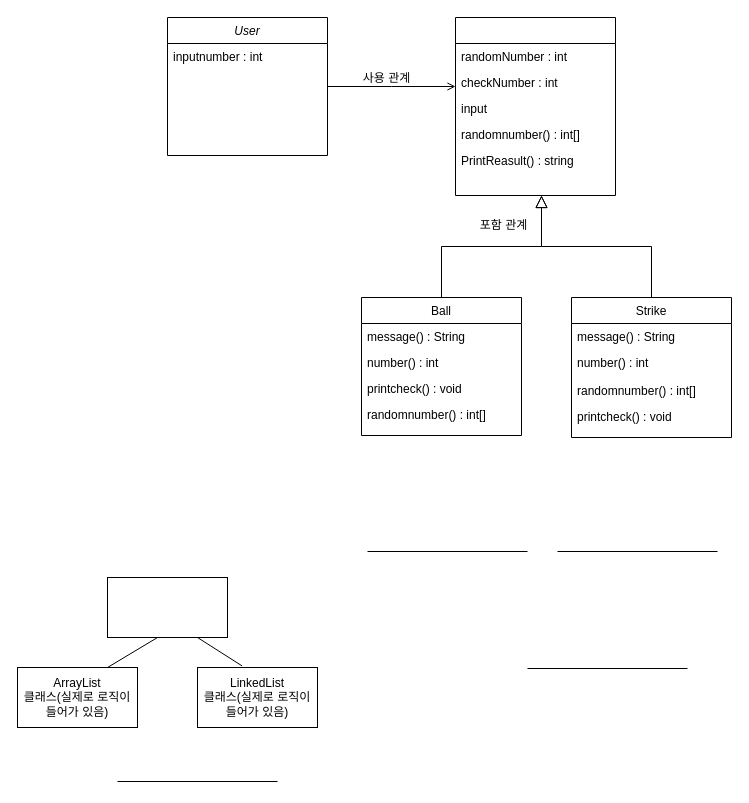
The diagram is 749 pixels wide and 803 high, and some of its shapes have lost their labels. The box of each missing label's shape, as (x1, y1, x2, y2) in pixels:
Game: (454, 16, 616, 196)
List 인터페이스(메서드의 선언만 들어가 있음): (106, 576, 228, 638)
